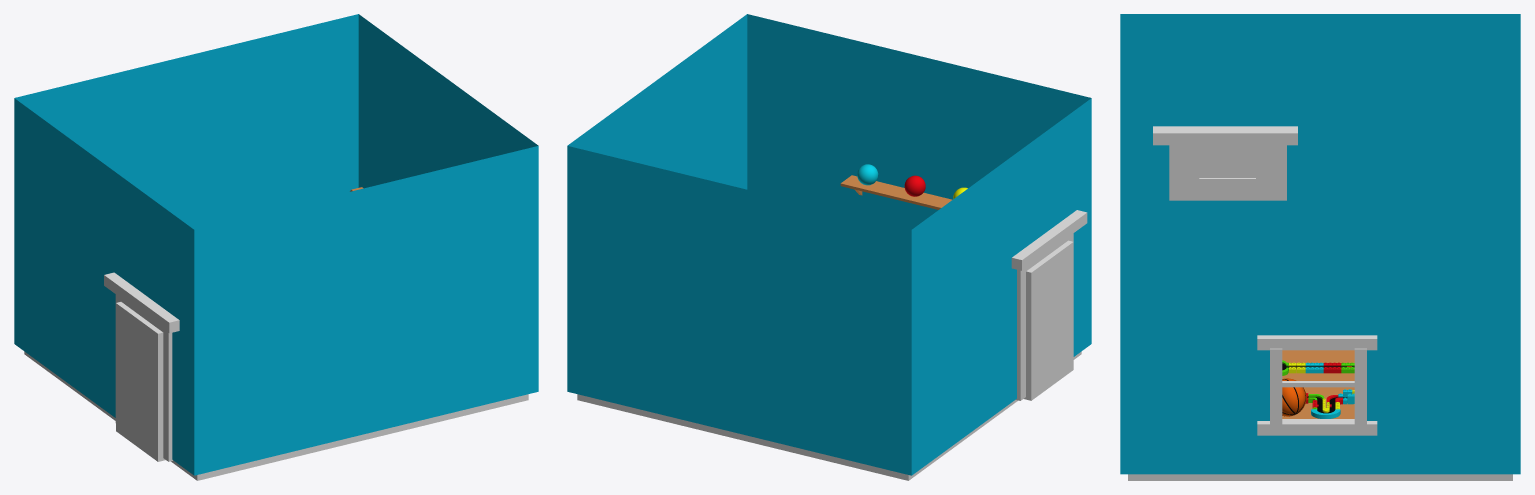
File: Track.fbx
The picture shows the model from 3 angles, left to right: view 1: azimuth 30°, elevation 25°; view 2: azimuth 150°, elevation 25°; view 3: azimuth 270°, elevation 25°; orthographic projection. The views are drawn at different scales.
Parts seen in each view (by area): view 1: RoomWalls, Door.003, Door.002, Door.001; view 2: RoomWalls, Door.003, Door.001, Door.002, Shelf; view 3: RoomWalls, Door.003, Door.001, Door.002, Window.001, Window.005, Window.002, Window.004, BasketBall, Window.003.
Part boxes in pixels (x1=…): RoomWalls: x1=14, y1=14, x2=538, y2=480; Door.003: x1=116, y1=302, x2=165, y2=461; Door.002: x1=115, y1=294, x2=172, y2=461; Door.001: x1=104, y1=272, x2=179, y2=333; RoomWalls: x1=567, y1=14, x2=1091, y2=480; Door.003: x1=1024, y1=240, x2=1073, y2=400; Door.001: x1=1011, y1=210, x2=1087, y2=270; Door.002: x1=1016, y1=233, x2=1073, y2=400; Shelf: x1=840, y1=175, x2=952, y2=209; RoomWalls: x1=1120, y1=14, x2=1520, y2=480; Door.003: x1=1181, y1=155, x2=1274, y2=200; Door.001: x1=1153, y1=126, x2=1297, y2=145; Door.002: x1=1169, y1=145, x2=1286, y2=200; Window.001: x1=1257, y1=335, x2=1377, y2=350; Window.005: x1=1257, y1=419, x2=1377, y2=435; Window.002: x1=1354, y1=348, x2=1366, y2=427; Window.004: x1=1270, y1=348, x2=1282, y2=427; BasketBall: x1=1282, y1=378, x2=1306, y2=416; Window.003: x1=1282, y1=381, x2=1354, y2=387.
Bounding box in the file's own units: 162639 × 112330 × 140114.
